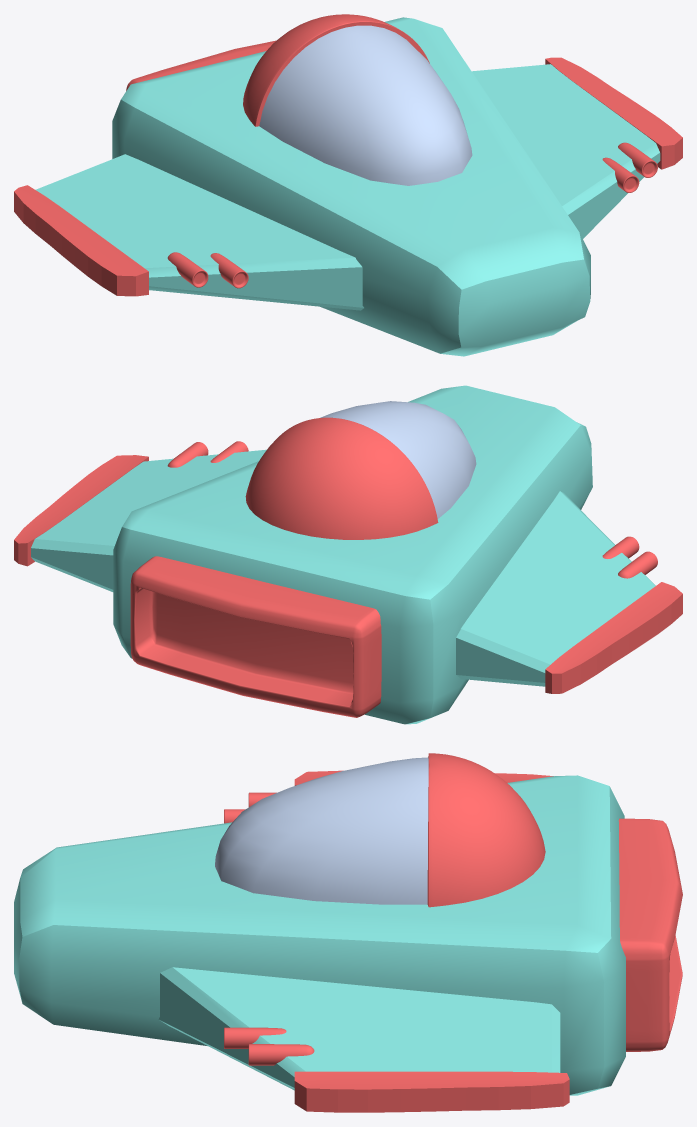
File: SpaceShipFBX.fbx
3 renders of one model, top to bottom at view 1: azimuth 30°, elevation 25°; view 2: azimuth 150°, elevation 25°; view 3: azimuth 270°, elevation 25°, orthographic. The views are drawn at different scales.
Parts seen in each view (by area): view 1: pPlane6; view 2: pPlane6; view 3: pPlane6.
Boxes of the visible parts, box(x1,y1,x2,y2) form: pPlane6: box(14, 14, 682, 356); pPlane6: box(14, 385, 682, 724); pPlane6: box(14, 753, 682, 1112).
Size of the model in its own units: 13.15 by 4.93 by 11.66.
